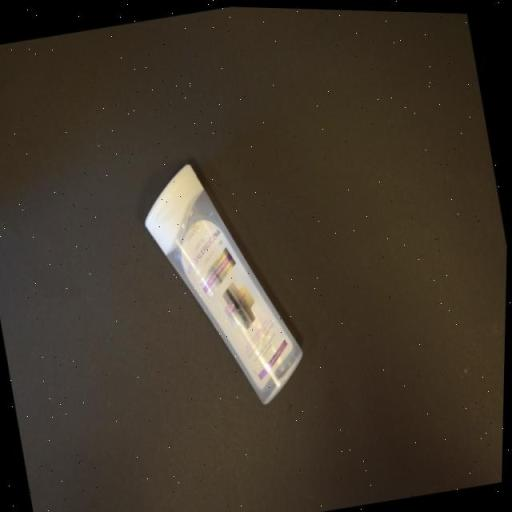plastic: (134, 142, 320, 420)
